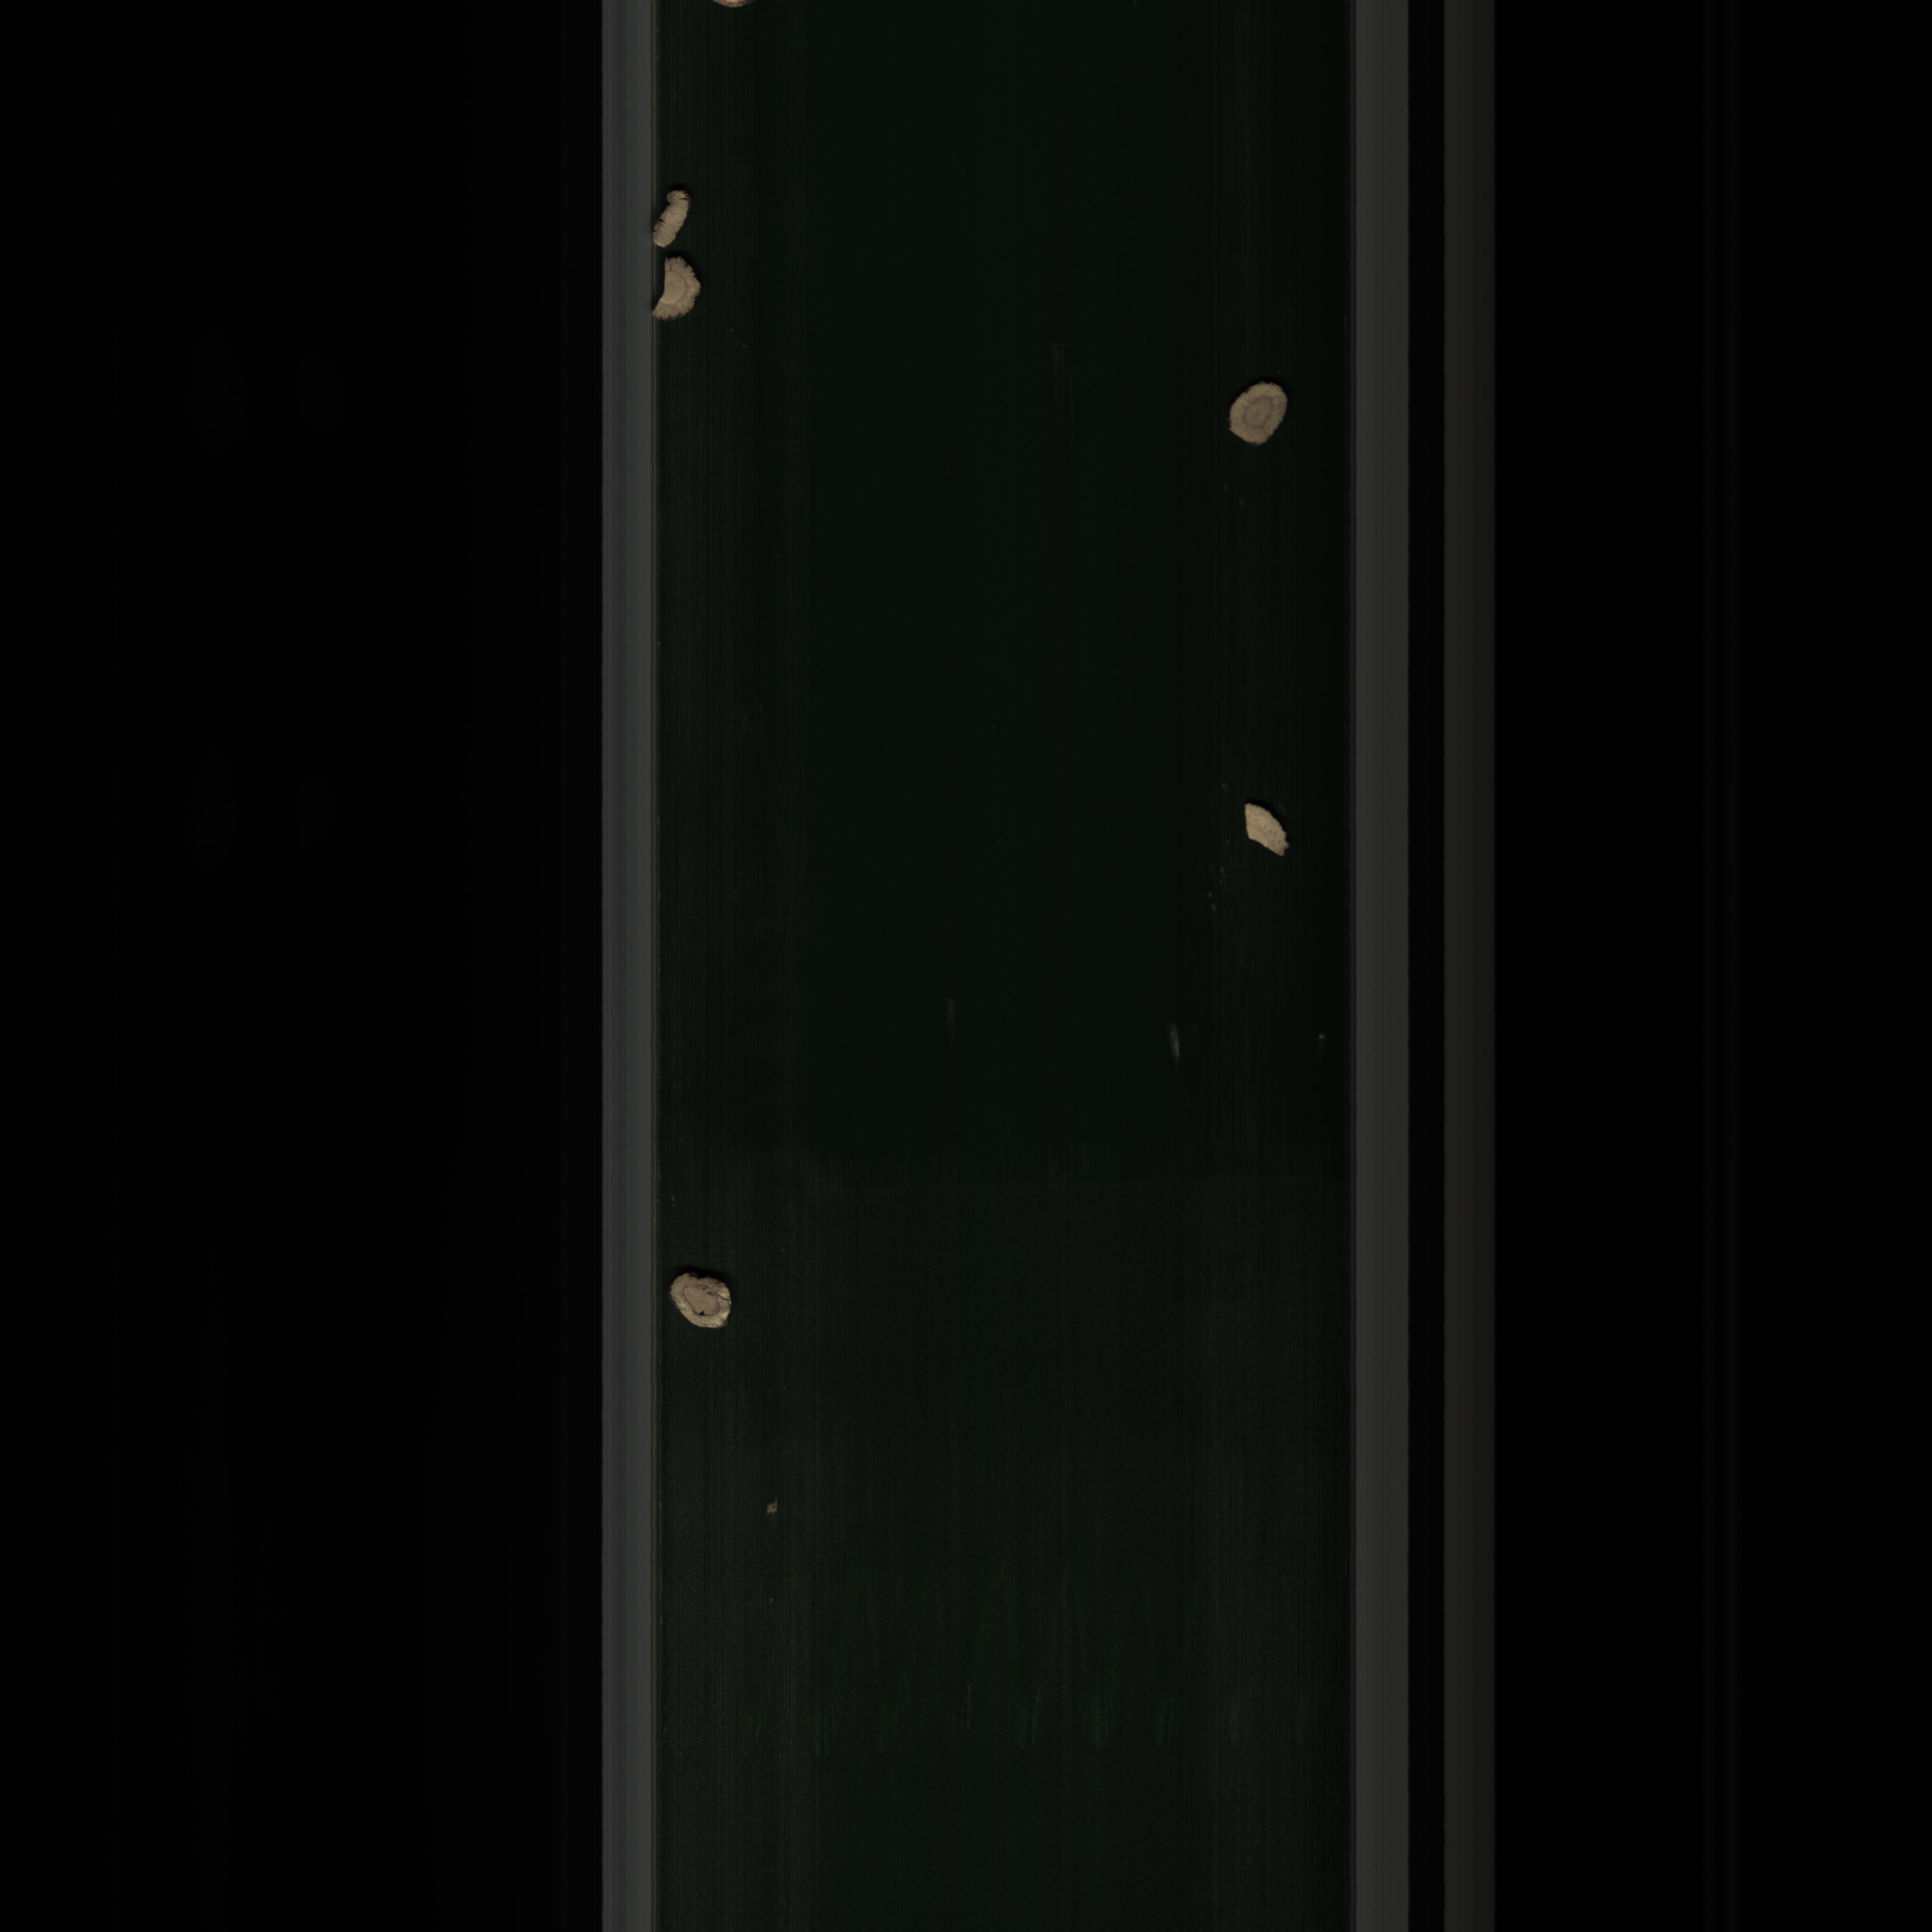debris: (1219, 793, 1309, 867), (655, 248, 708, 331), (653, 188, 706, 251)
moldy: (662, 1263, 741, 1341)
